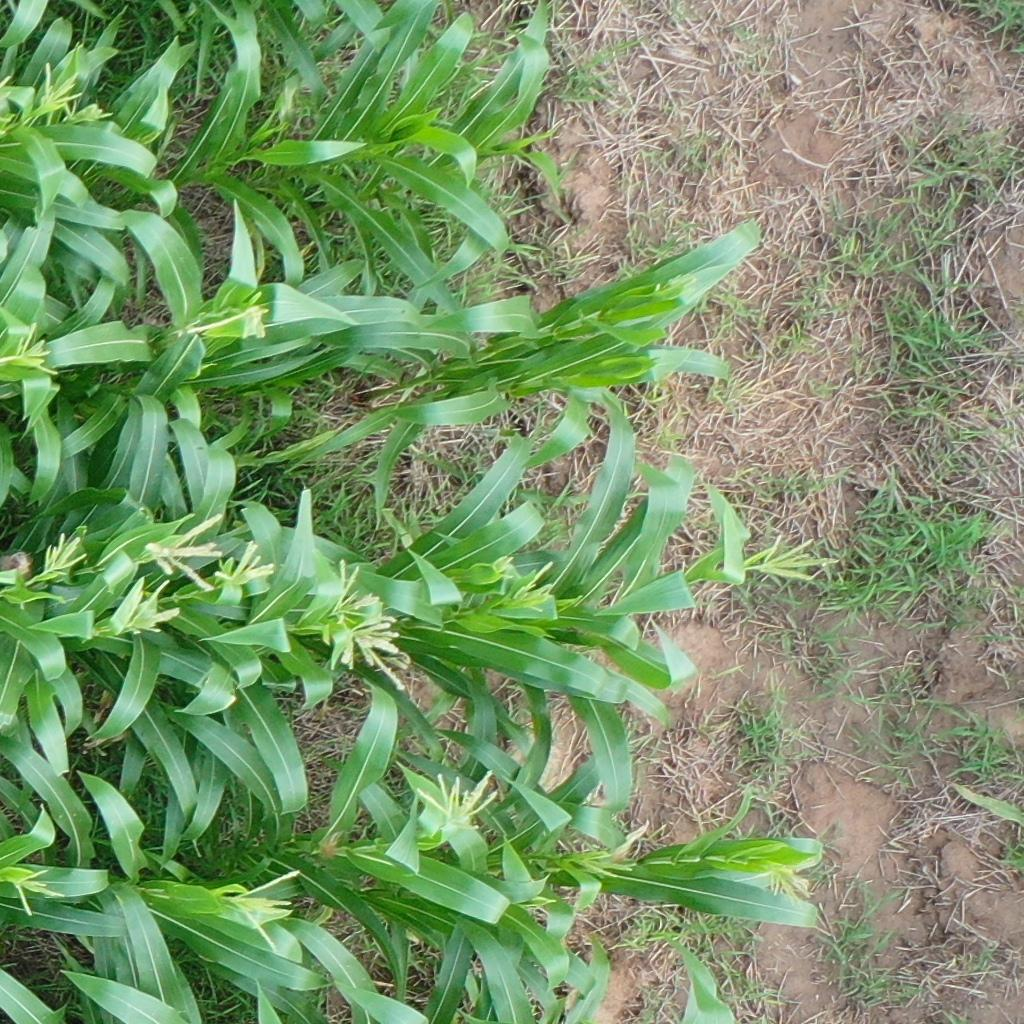Tassel: (220, 868, 302, 959), (141, 510, 228, 595), (408, 764, 498, 834), (746, 531, 840, 587), (346, 616, 409, 694), (122, 576, 183, 645), (490, 549, 555, 613), (1, 318, 63, 378), (181, 300, 274, 340), (327, 554, 379, 620), (214, 539, 277, 591), (755, 853, 821, 901), (10, 862, 64, 917), (32, 58, 83, 114), (39, 527, 88, 583), (569, 846, 636, 886), (65, 103, 117, 133), (651, 271, 695, 305)
